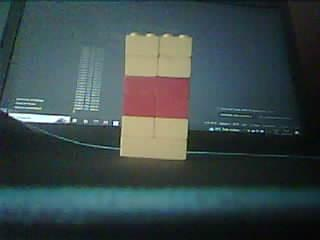lego: (120, 31, 192, 161)
